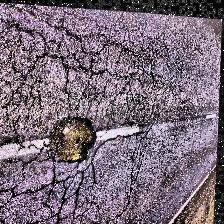pothole: (46, 110, 102, 168)
